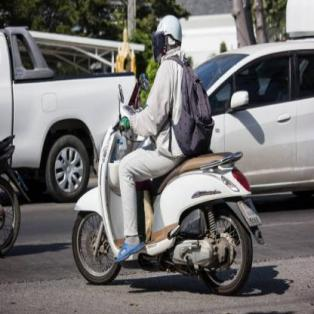Motocicleta: (71, 101, 260, 295)
